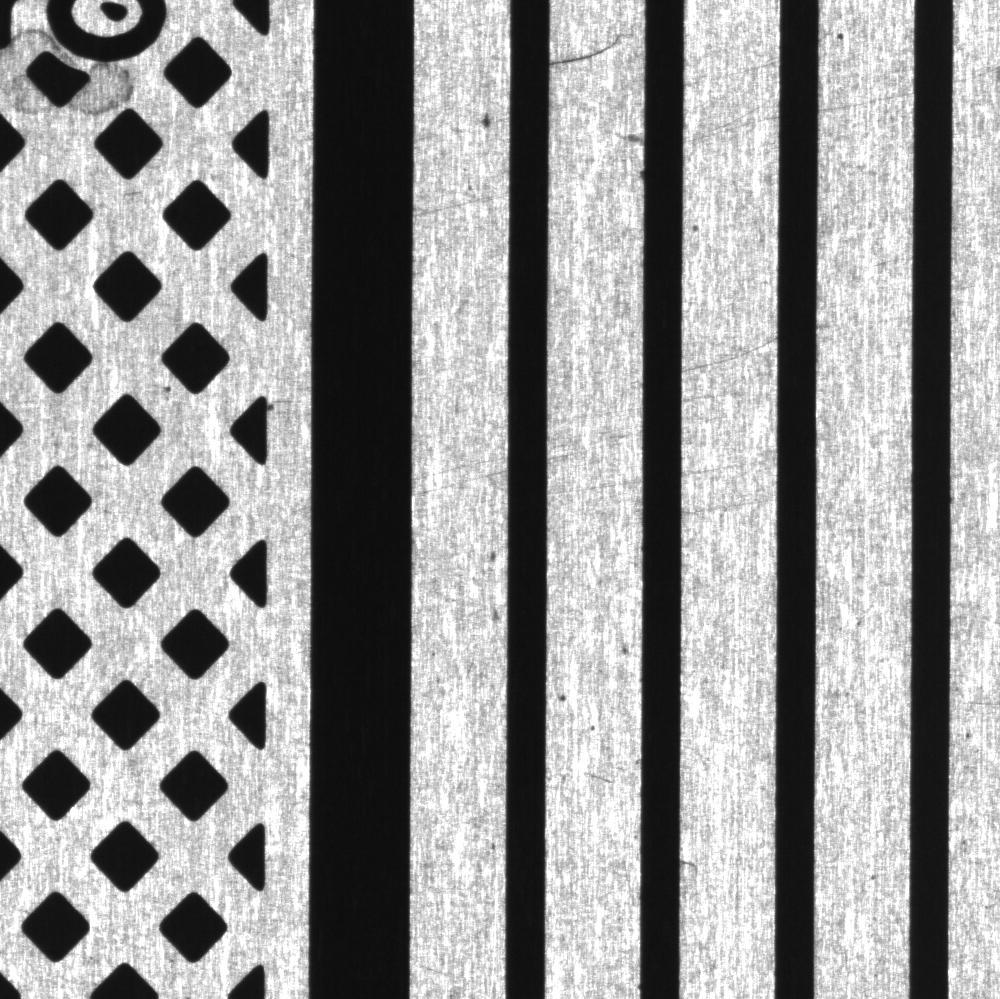Discolor: (2, 21, 63, 115), (77, 62, 155, 119)
Etching: (620, 124, 646, 188), (471, 102, 505, 142), (481, 535, 506, 569), (485, 598, 505, 633)
Pinhole: (552, 682, 581, 715), (827, 18, 854, 51), (611, 635, 639, 661), (687, 213, 705, 238)
Scar: (686, 92, 771, 158), (414, 445, 500, 508), (685, 332, 771, 385), (553, 26, 627, 79), (548, 421, 642, 462), (414, 184, 503, 227), (819, 83, 915, 115), (684, 489, 774, 520), (681, 455, 771, 485), (548, 476, 638, 502)
